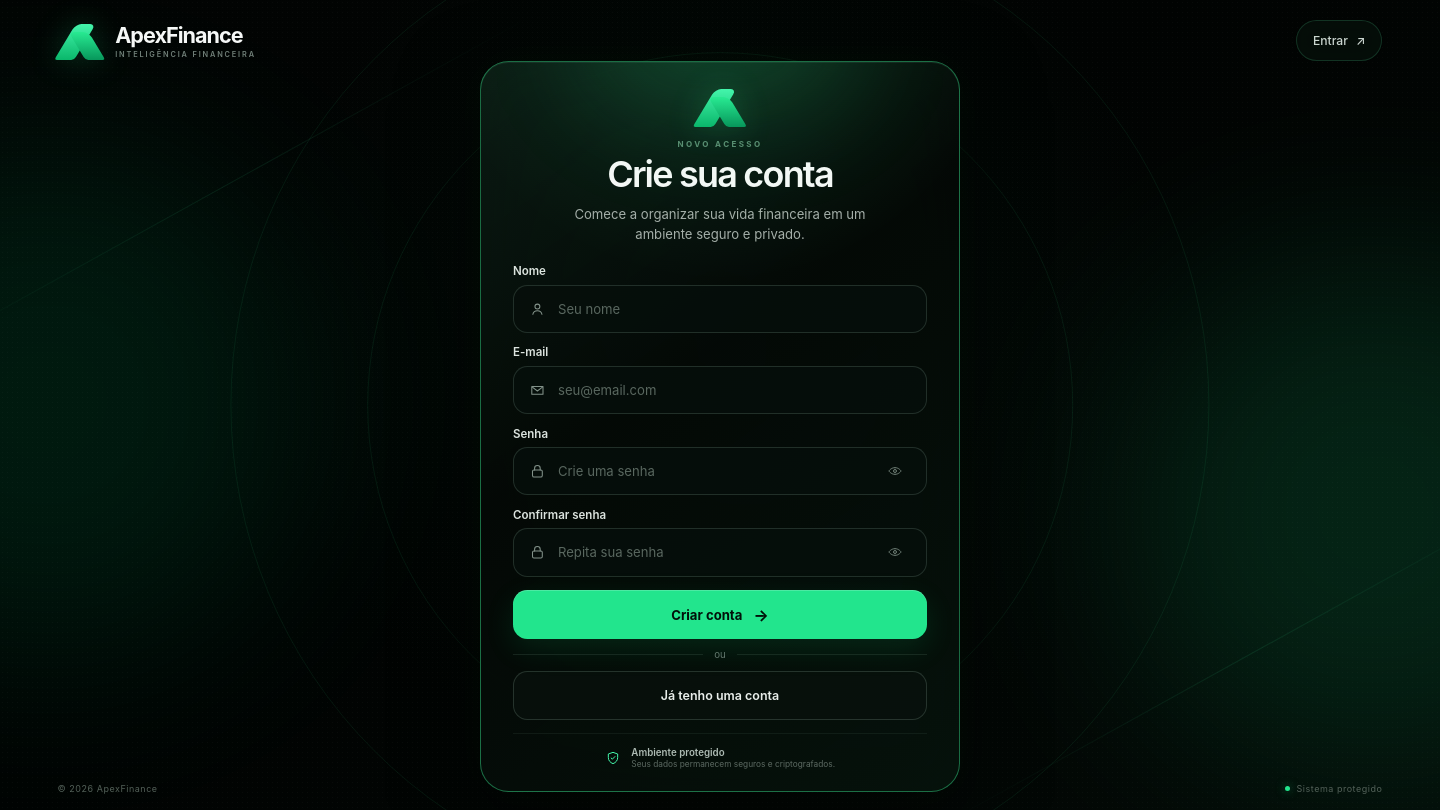
Test: Autenticação do ApexFinance › impede o cadastro quando as senhas não coincidem
In the field labelled "Nome": [728, 309] box [546,301,911,317], type "João Xavier"
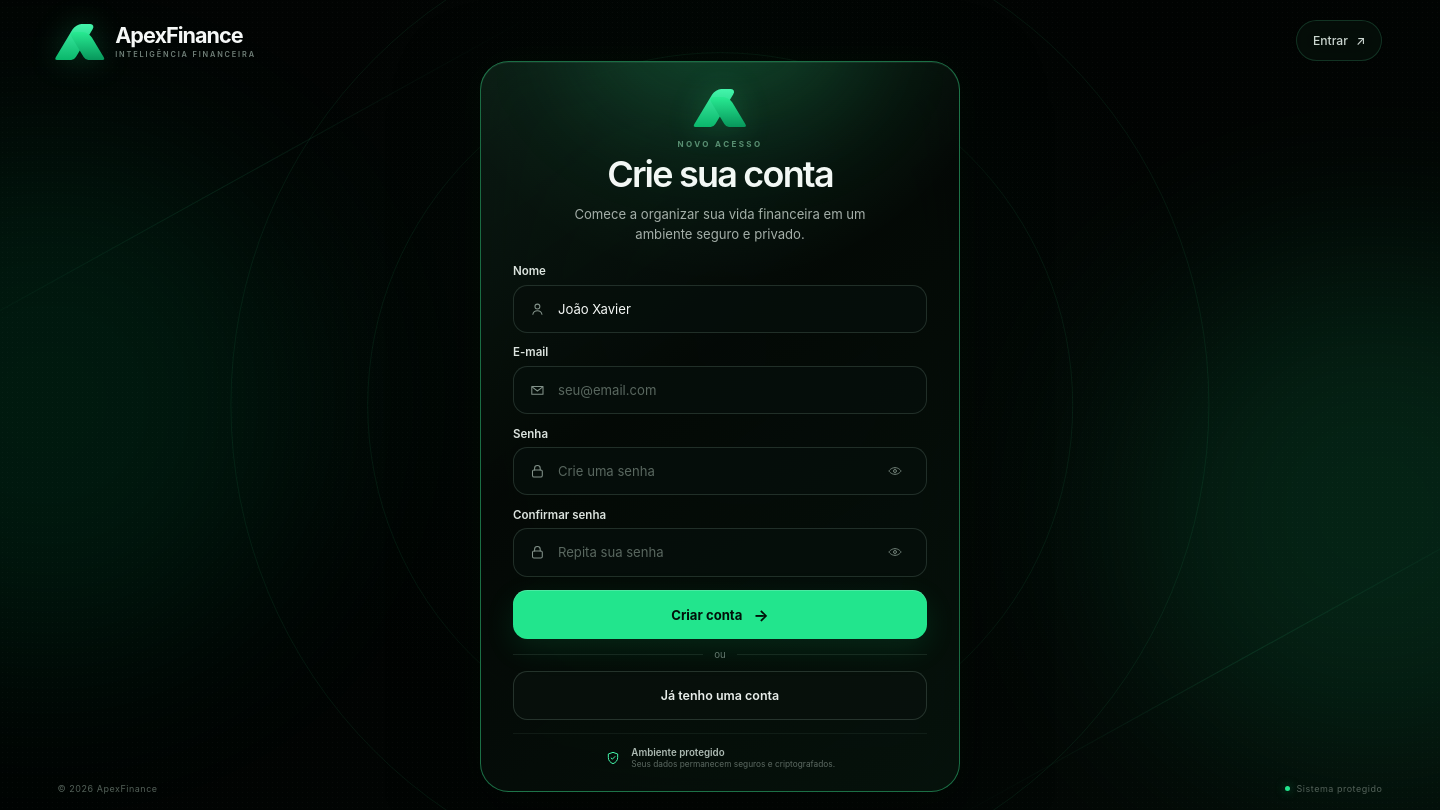
In the field labelled "E-mail": [728, 390] box [546,382,911,398], type "joao@example.com"
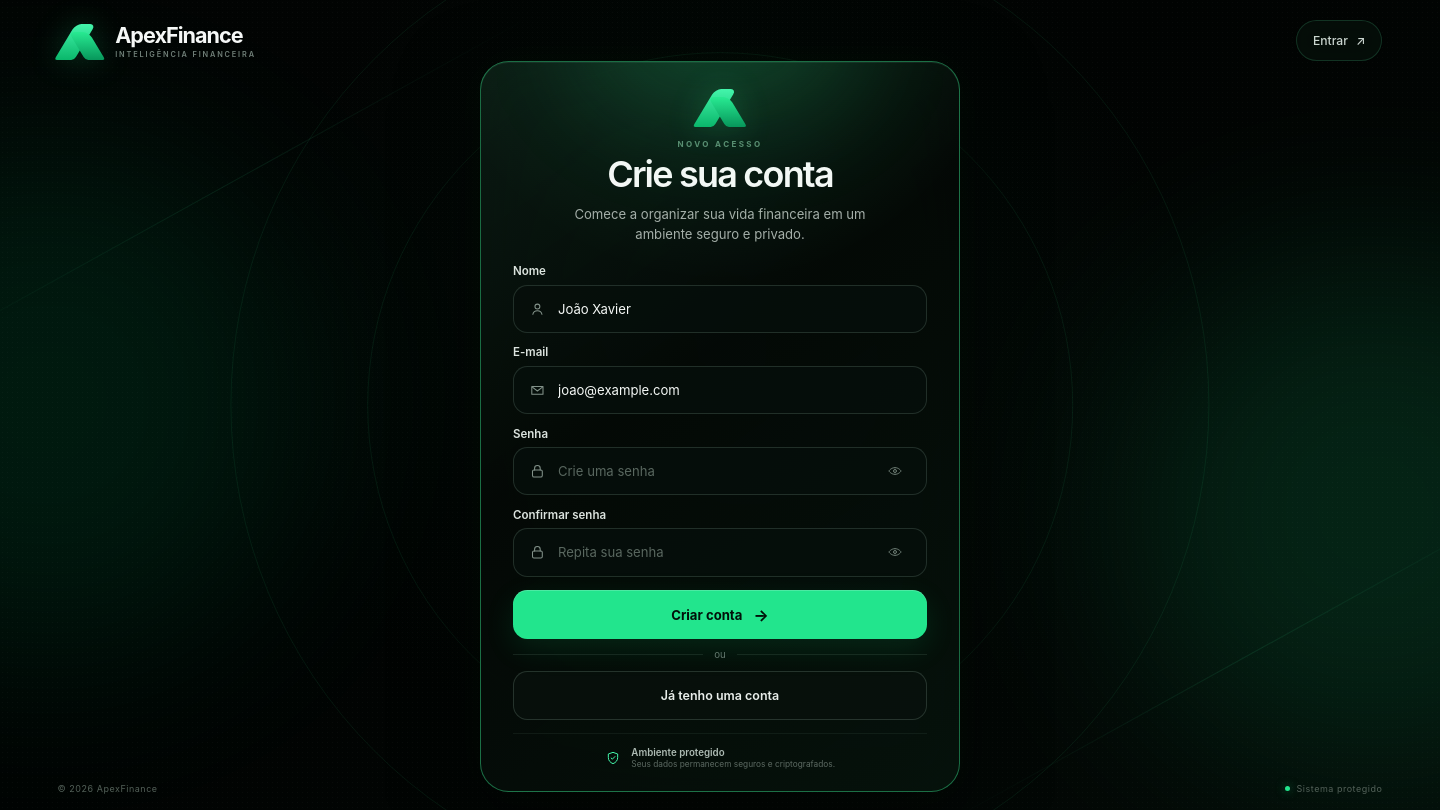
In the password field labelled "Senha": [712, 471] box [546,463,879,479], type "senha123"
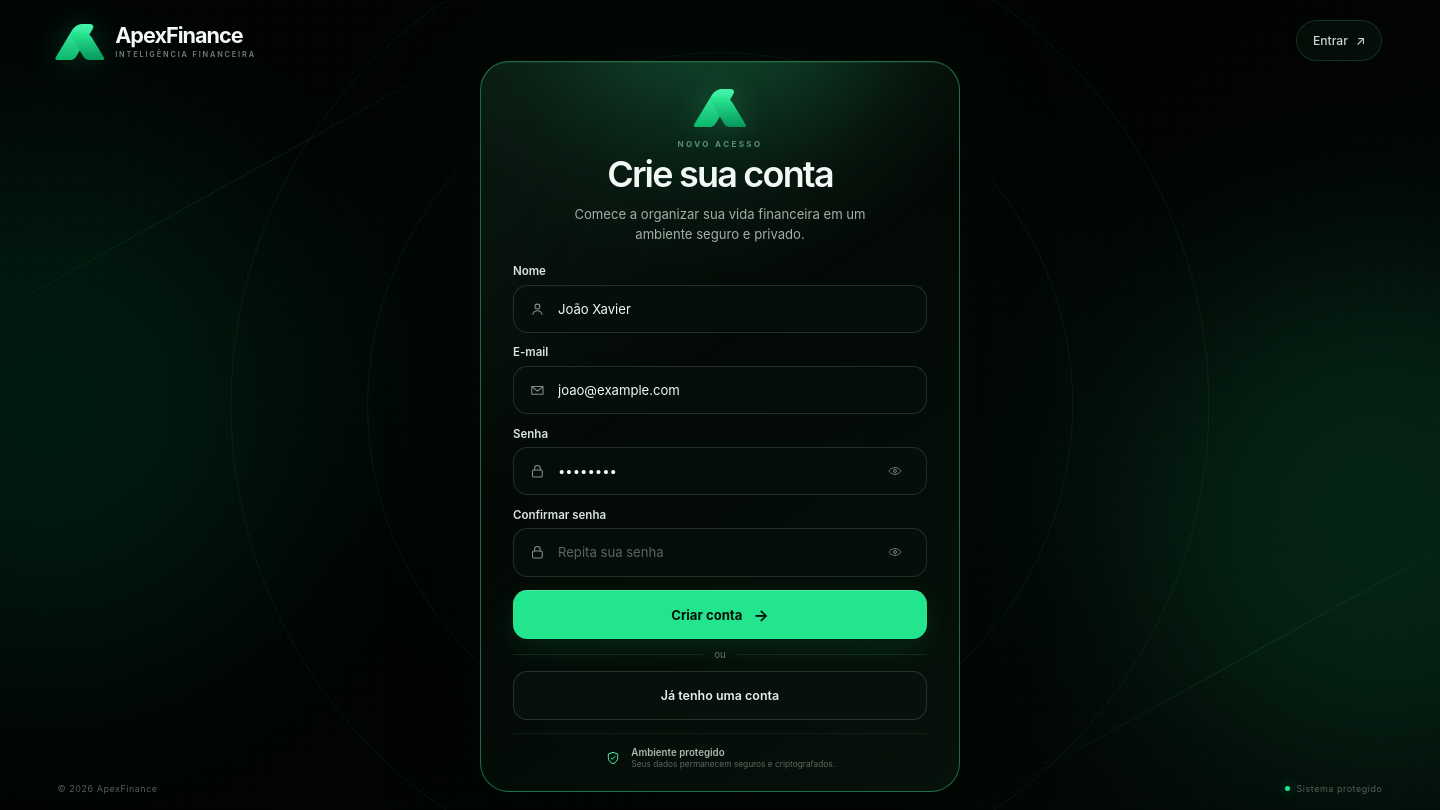
In the password field labelled "Confirmar senha": [712, 552] box [546,544,879,560], type "senha456"
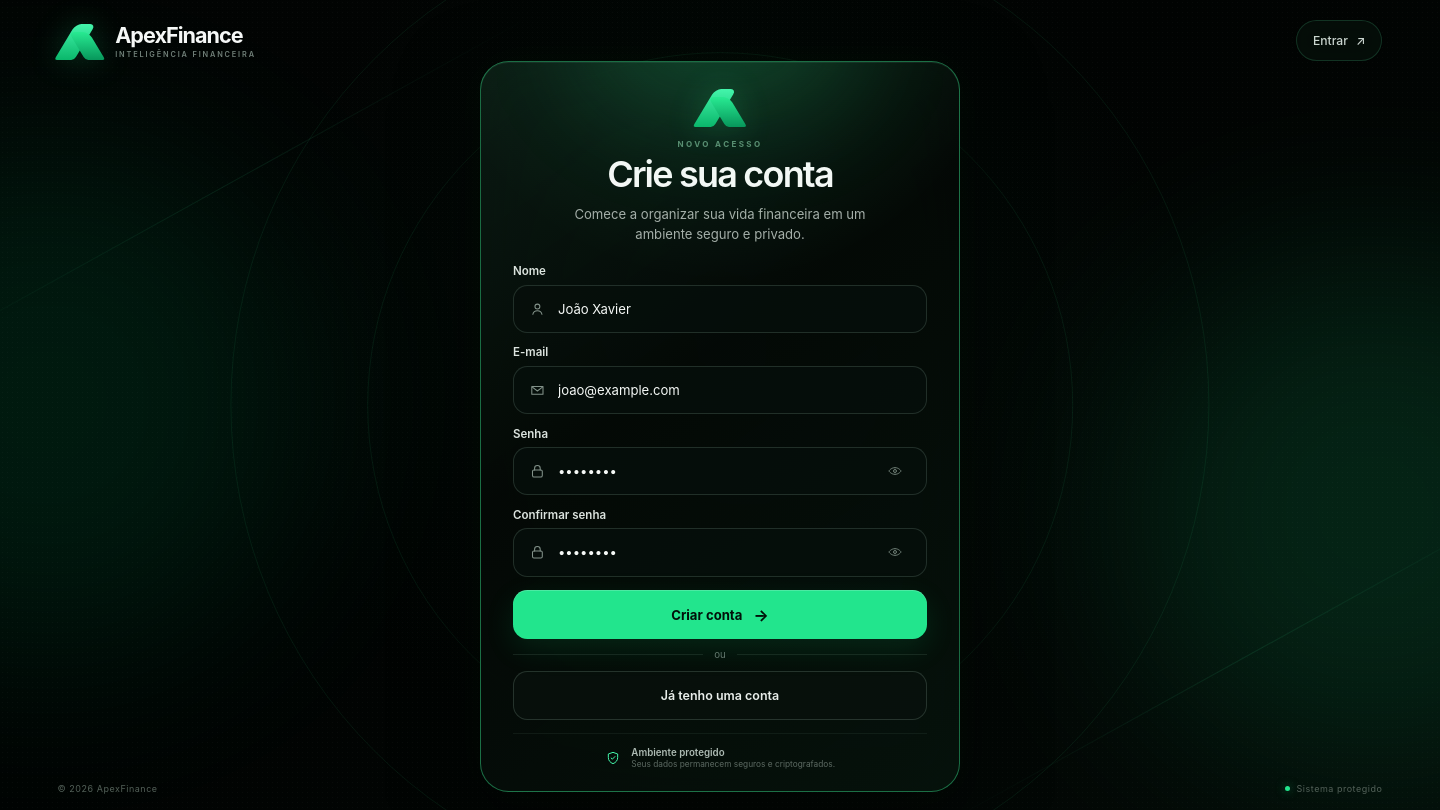
Click the button "Criar conta →": [720, 615] box [513,590,927,639]
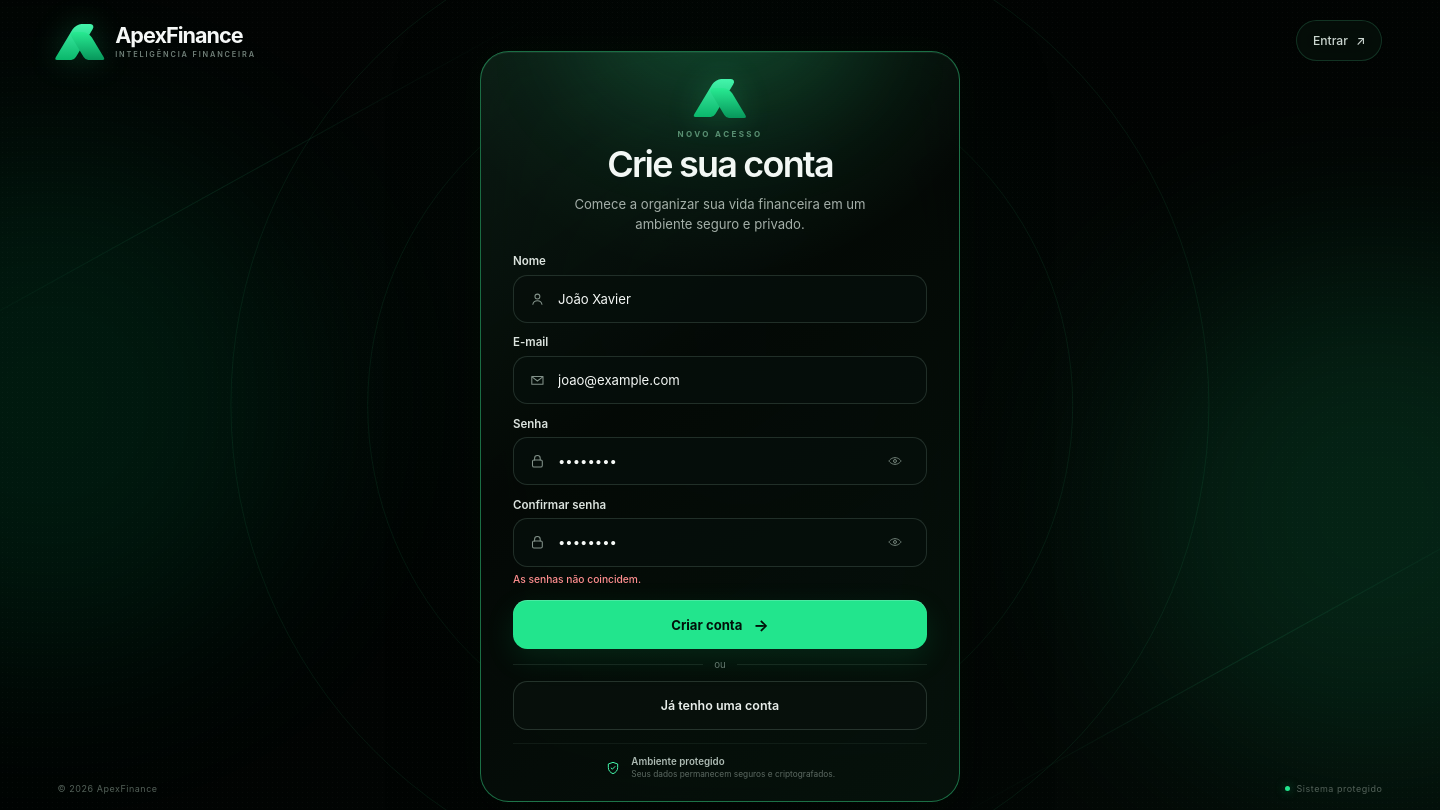
Now the text "As senhas não coincidem." is shown, box [513,573,641,585]
